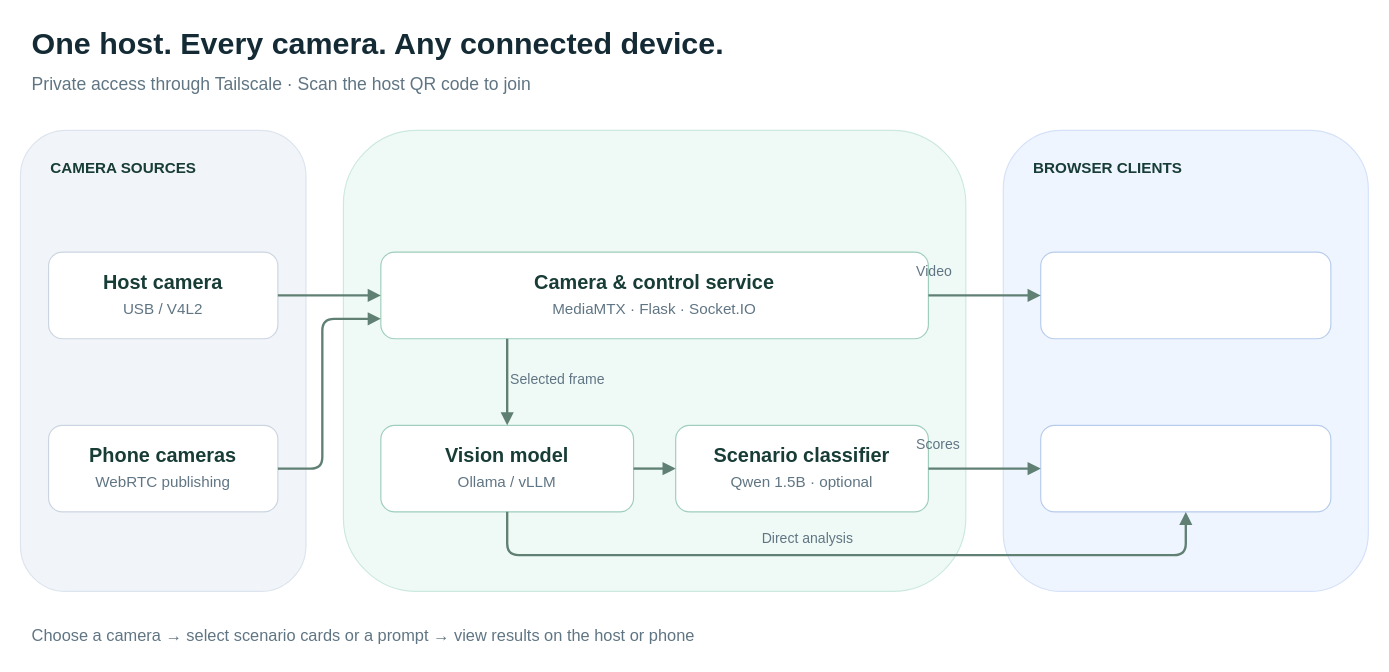
Some shapes in this 1389 by 672 pixel diagram are drawn without their labels. Here are the shapes that lost their labels. From the top down, the box of each, then its label:
(1040, 251, 1331, 339): Watch & share Desktop · iPhone · Android
(342, 129, 966, 591): LOCAL AI HOST
(1040, 424, 1331, 512): Analysis results Explanation · scenario scores
